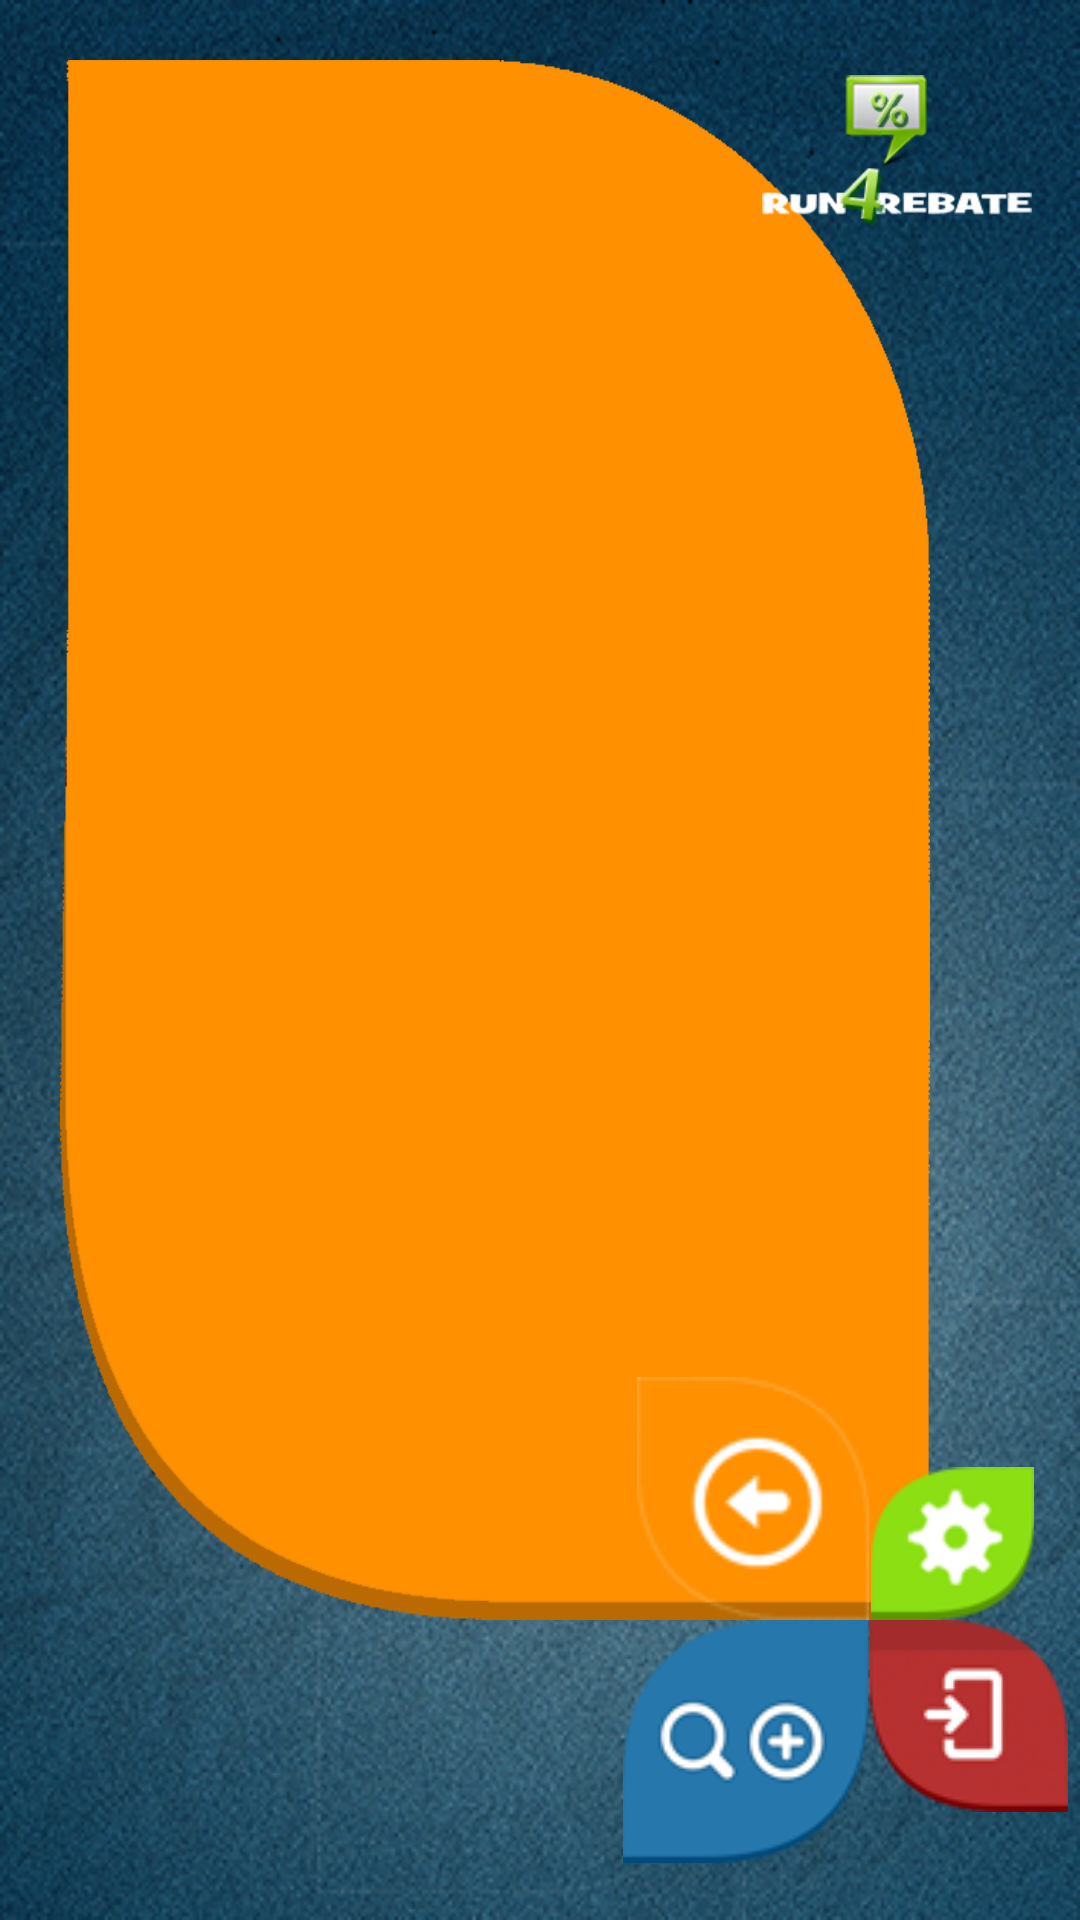

Icon click points for this 1080 x 1920 phone screenshot, format (x=x, y=y):
add search: (x=745, y=1741)
rules back: (x=757, y=1502)
settings: (x=952, y=1543)
